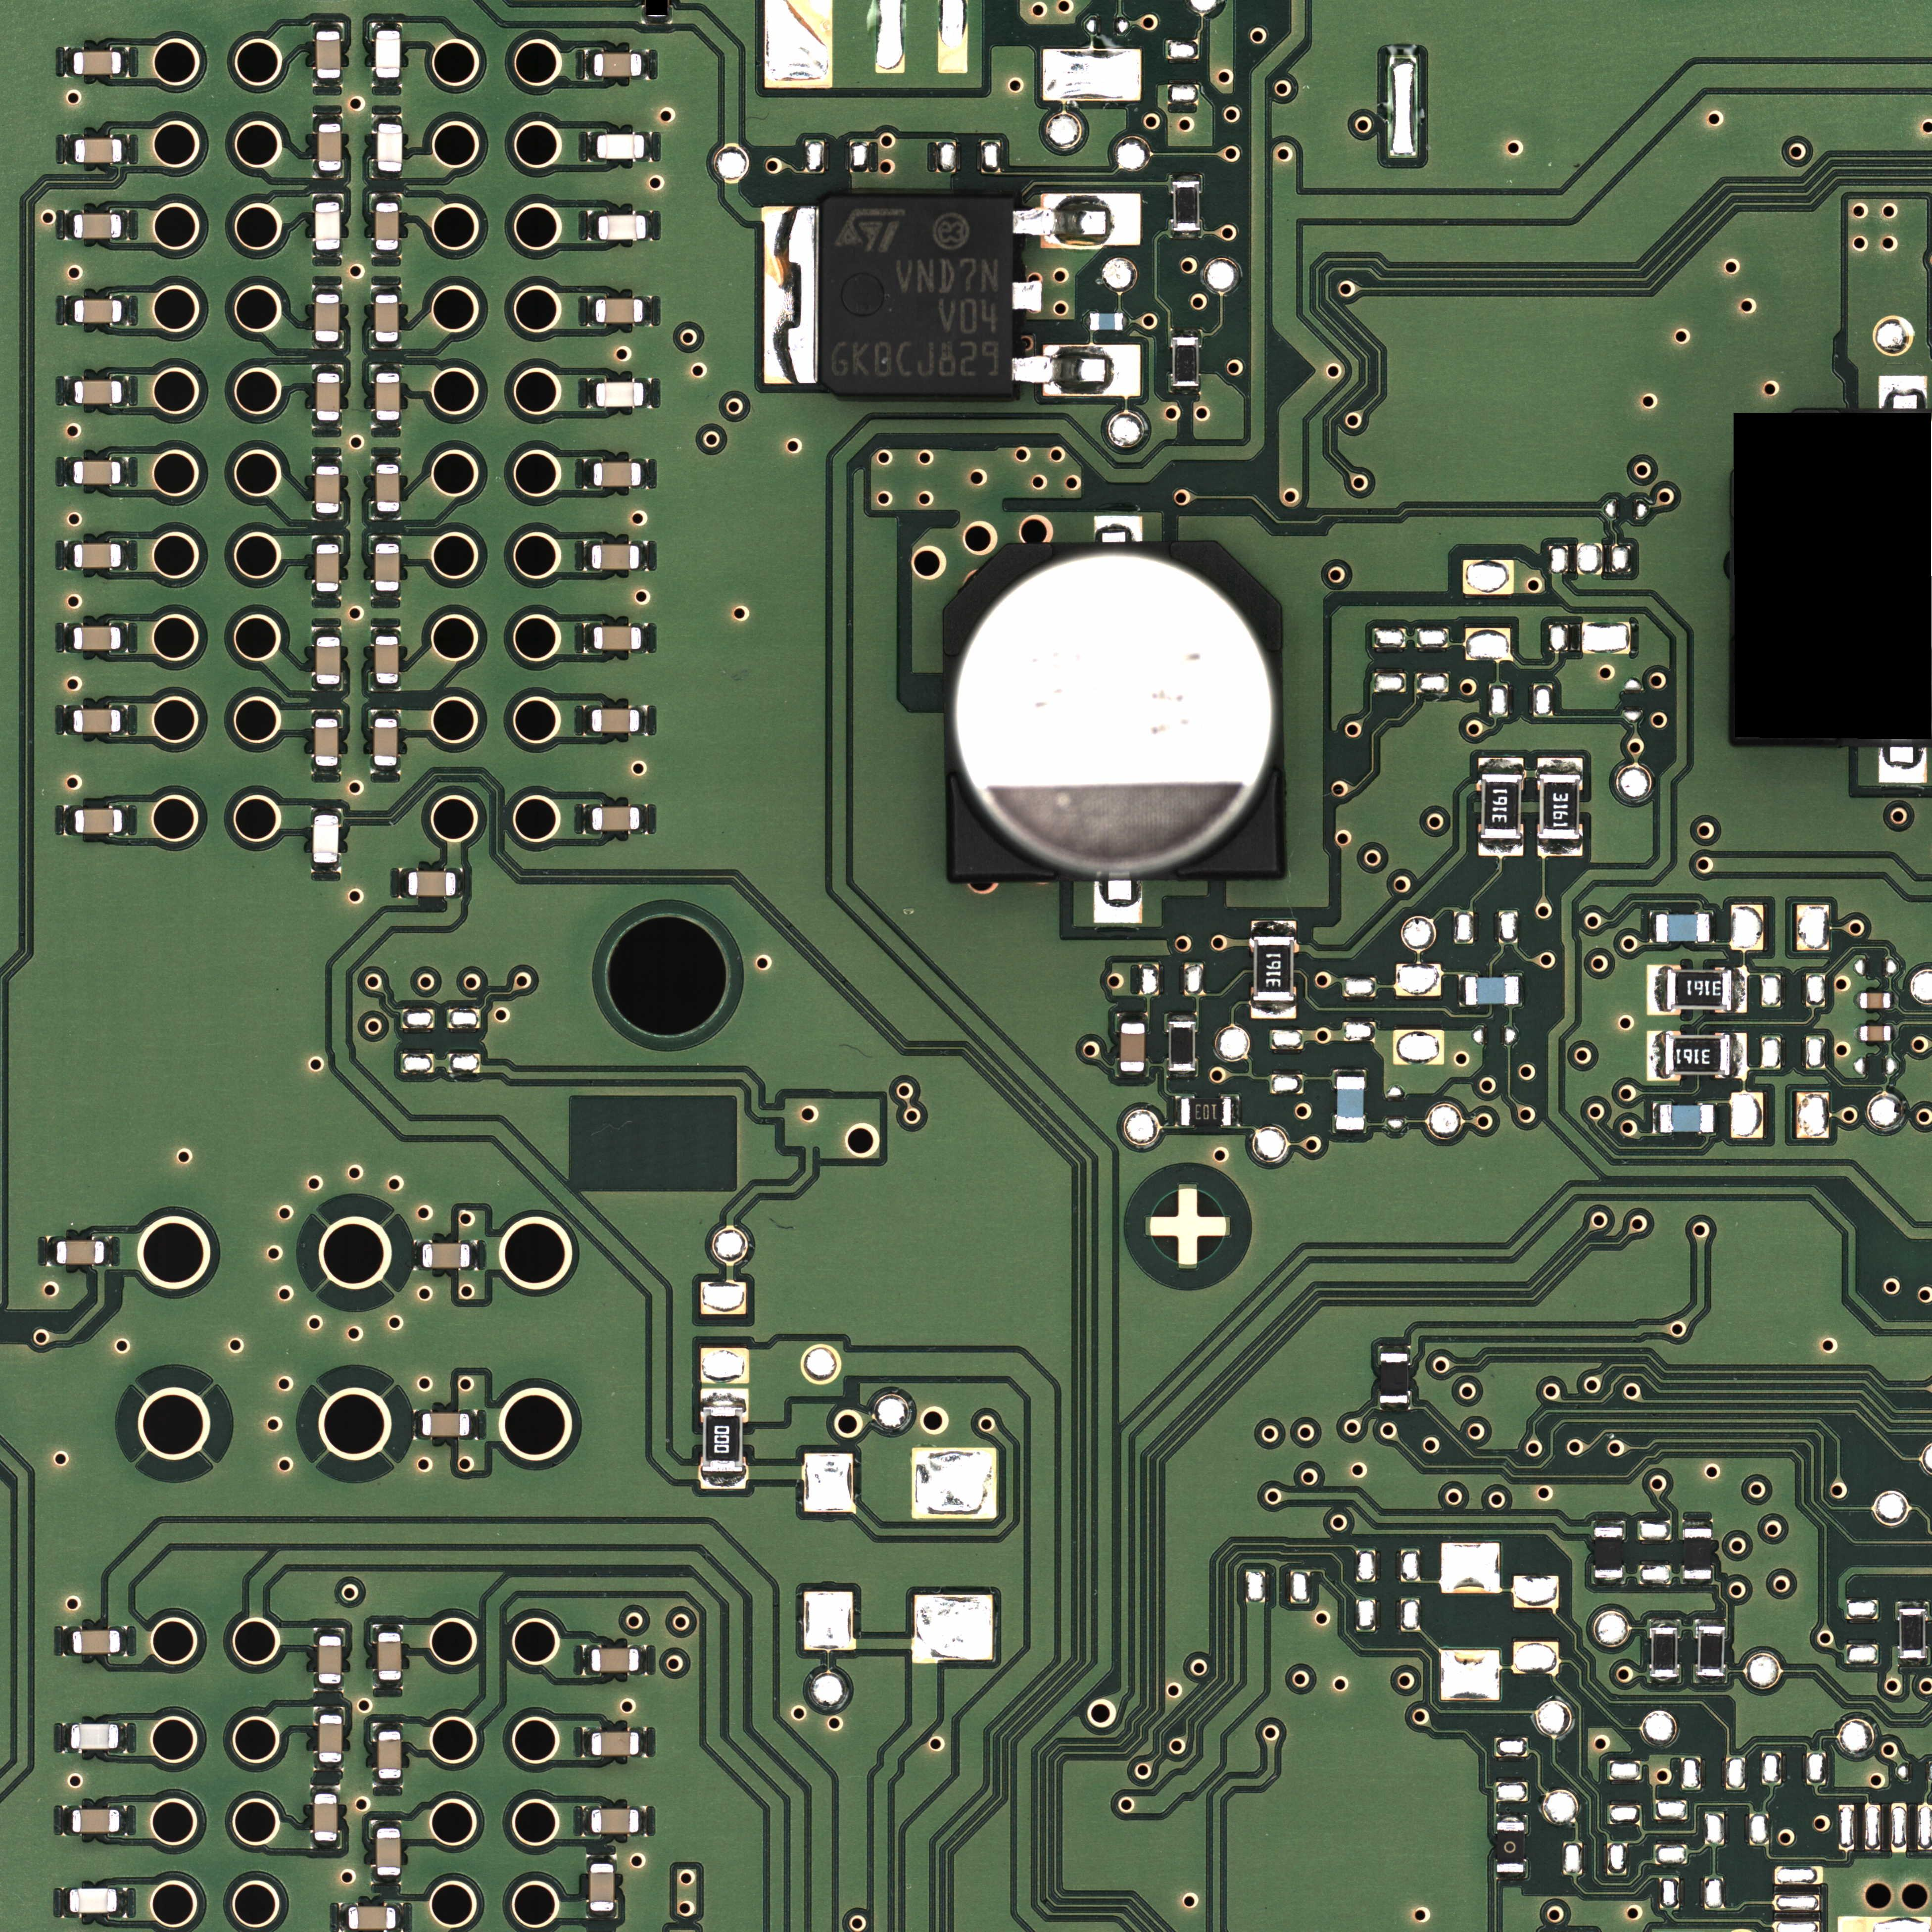Package: (941, 541, 1286, 881), (819, 195, 1012, 395), (1665, 1035, 1730, 1076), (1667, 970, 1732, 1010), (702, 1407, 743, 1472), (1481, 775, 1522, 839), (1253, 938, 1293, 1001), (1539, 775, 1580, 839), (1660, 1104, 1714, 1132), (1465, 977, 1518, 1005), (1336, 1077, 1364, 1131), (1594, 1527, 1622, 1578), (1656, 915, 1709, 941), (1380, 1353, 1408, 1403), (1180, 1099, 1231, 1125), (1497, 1822, 1523, 1872), (1698, 1626, 1725, 1675), (1684, 1529, 1711, 1578), (1651, 1628, 1677, 1677), (1173, 182, 1200, 230), (71, 1723, 119, 1750), (1120, 1023, 1145, 1072), (1169, 1021, 1194, 1070), (1900, 1608, 1925, 1658), (591, 807, 640, 832), (1173, 338, 1198, 386), (74, 809, 122, 833), (57, 1240, 104, 1265), (315, 202, 340, 249), (373, 718, 398, 766), (423, 1244, 471, 1269), (598, 216, 646, 241), (591, 545, 639, 570), (589, 1863, 614, 1911), (69, 1888, 117, 1913), (318, 1714, 343, 1762), (409, 872, 456, 897), (596, 134, 644, 159), (315, 294, 340, 341), (377, 124, 402, 172), (591, 1808, 639, 1833), (375, 464, 400, 511), (315, 465, 340, 513), (596, 299, 644, 324), (375, 543, 400, 591), (74, 299, 122, 324), (596, 382, 644, 407), (375, 30, 400, 78), (313, 816, 338, 863), (594, 462, 640, 487), (74, 214, 120, 239), (375, 373, 400, 419), (74, 543, 120, 568), (317, 32, 341, 78), (423, 1414, 471, 1437), (74, 380, 122, 403), (591, 1649, 639, 1672), (74, 140, 122, 163), (317, 637, 340, 685), (318, 1637, 341, 1684), (591, 1732, 639, 1755), (591, 709, 639, 732), (317, 373, 340, 421), (73, 1631, 120, 1654), (594, 53, 642, 76), (315, 718, 338, 766), (73, 1810, 120, 1833), (315, 1794, 338, 1842), (379, 1633, 402, 1681), (349, 1907, 396, 1930), (379, 1732, 402, 1778), (375, 203, 398, 249), (375, 637, 398, 683), (74, 51, 120, 74), (375, 295, 398, 341), (377, 1829, 400, 1875), (74, 462, 120, 485), (318, 124, 341, 170), (594, 626, 640, 649), (74, 626, 120, 649), (74, 709, 120, 732), (317, 545, 340, 591), (1090, 313, 1123, 329), (1861, 993, 1890, 1008), (1861, 1026, 1891, 1040)
Solder: (764, 205, 819, 384), (1014, 193, 1141, 246), (1014, 345, 1141, 396), (1093, 881, 1143, 924), (1877, 747, 1928, 784), (1879, 375, 1927, 409), (1093, 515, 1143, 541), (1647, 964, 1667, 1016), (1647, 1030, 1665, 1081), (1014, 281, 1042, 311), (701, 1389, 748, 1407), (701, 1472, 747, 1490), (1537, 757, 1582, 775), (1251, 1001, 1295, 1019), (1479, 839, 1523, 856), (1479, 757, 1523, 775), (1251, 920, 1297, 936), (1730, 1033, 1746, 1077), (1537, 840, 1582, 856), (1732, 968, 1746, 1012), (311, 626, 341, 637), (412, 1240, 423, 1270), (372, 193, 402, 203), (580, 1806, 591, 1836), (64, 805, 74, 835), (587, 211, 598, 241), (338, 1904, 349, 1932), (64, 541, 74, 570), (370, 364, 402, 373), (1116, 1014, 1148, 1023), (1334, 1069, 1366, 1077), (586, 1911, 617, 1920), (1231, 1095, 1240, 1127), (311, 709, 343, 718), (1169, 386, 1201, 395), (370, 511, 402, 520), (1695, 1675, 1727, 1684), (370, 534, 402, 543), (1897, 1601, 1928, 1610), (1169, 173, 1201, 182), (1334, 1131, 1366, 1139), (313, 78, 343, 87), (372, 455, 402, 464), (372, 78, 402, 87), (372, 115, 402, 124), (471, 1240, 479, 1270), (586, 1854, 616, 1863), (313, 193, 343, 202), (310, 1785, 340, 1794), (313, 364, 343, 373), (372, 591, 402, 600), (311, 591, 341, 600), (311, 249, 341, 258), (373, 1624, 403, 1633), (372, 1875, 402, 1884), (372, 285, 402, 294), (587, 131, 596, 161), (1166, 1012, 1196, 1021), (315, 1706, 345, 1714), (313, 1628, 343, 1637), (372, 249, 402, 258), (471, 1410, 479, 1440), (584, 50, 593, 80), (1380, 1345, 1410, 1353), (370, 709, 400, 718), (313, 23, 343, 32), (373, 1778, 403, 1787), (65, 295, 74, 326), (584, 623, 593, 653), (587, 379, 596, 409), (313, 1762, 343, 1771), (372, 21, 402, 30), (311, 807, 341, 816), (48, 1237, 57, 1267), (65, 134, 74, 165), (582, 1727, 591, 1757), (311, 863, 341, 872), (584, 458, 593, 488), (582, 1645, 591, 1675), (65, 211, 74, 241), (400, 869, 409, 899), (1683, 1520, 1713, 1529), (117, 1888, 126, 1918), (1171, 1097, 1180, 1127), (313, 115, 341, 124), (313, 456, 341, 465), (313, 285, 341, 294), (372, 626, 400, 635), (64, 706, 73, 734), (64, 625, 73, 653), (65, 377, 74, 405), (412, 1410, 421, 1438), (1497, 1813, 1525, 1822), (1898, 1658, 1927, 1667), (120, 458, 129, 485), (396, 1904, 405, 1930), (311, 341, 343, 349), (370, 341, 402, 349), (311, 536, 343, 543), (313, 172, 345, 179), (372, 172, 403, 179), (1652, 1102, 1660, 1134), (1458, 975, 1465, 1007), (1649, 911, 1656, 943), (1695, 1619, 1727, 1626), (1594, 1520, 1624, 1527), (1171, 329, 1201, 336), (373, 1723, 403, 1730), (311, 421, 341, 428), (372, 1821, 402, 1828), (1171, 232, 1201, 239), (313, 685, 343, 692), (644, 295, 651, 326), (373, 1681, 403, 1688), (1649, 1677, 1679, 1684), (372, 421, 402, 428), (313, 513, 343, 520), (587, 295, 594, 326), (65, 48, 73, 78), (370, 685, 400, 692), (1683, 1578, 1713, 1585), (640, 541, 648, 571), (1380, 1403, 1410, 1410), (64, 1806, 71, 1836), (122, 295, 129, 326), (120, 1626, 127, 1656), (640, 706, 648, 736), (64, 1723, 71, 1753), (122, 211, 129, 241), (104, 1237, 111, 1267), (122, 46, 129, 76), (644, 379, 651, 409), (642, 50, 649, 80), (640, 803, 648, 833), (456, 869, 464, 899), (1709, 913, 1716, 943), (639, 1645, 646, 1675), (62, 1888, 69, 1918), (644, 131, 651, 161), (639, 1727, 646, 1757), (646, 211, 653, 241), (64, 1626, 71, 1656), (370, 766, 400, 773), (311, 766, 341, 773), (1714, 1104, 1721, 1134), (642, 16, 672, 23), (315, 1684, 343, 1691), (65, 458, 73, 487), (1497, 1872, 1525, 1879), (584, 805, 591, 833), (1651, 1621, 1679, 1628), (584, 706, 591, 734), (584, 541, 591, 570), (311, 1842, 340, 1849), (1594, 1578, 1622, 1585), (122, 541, 129, 570), (120, 706, 127, 734), (119, 1723, 126, 1752), (122, 377, 129, 405), (1166, 1072, 1198, 1077), (1118, 1072, 1148, 1077), (640, 1806, 646, 1836), (642, 458, 648, 488), (642, 623, 648, 653), (122, 134, 127, 165), (120, 1805, 126, 1835), (1520, 975, 1525, 1005), (122, 805, 127, 835), (122, 625, 127, 651), (1852, 993, 1861, 1008), (1891, 993, 1898, 1008), (1083, 313, 1090, 329), (1891, 1026, 1898, 1040), (1852, 1026, 1859, 1040), (1123, 313, 1129, 329)
